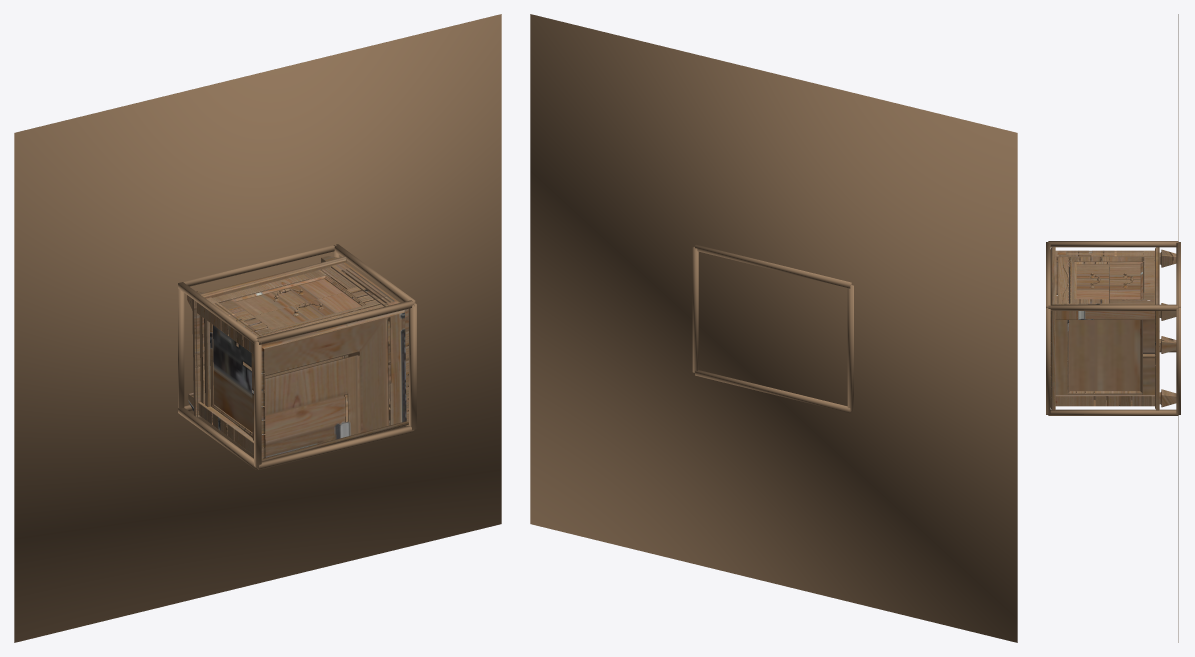
3 renders of one model, left to right at view 1: azimuth 30°, elevation 25°; view 2: azimuth 150°, elevation 25°; view 3: azimuth 270°, elevation 25°, orthographic. The views are drawn at different scales.
Bounding box in the file's own units: 2 × 2 × 0.57.
